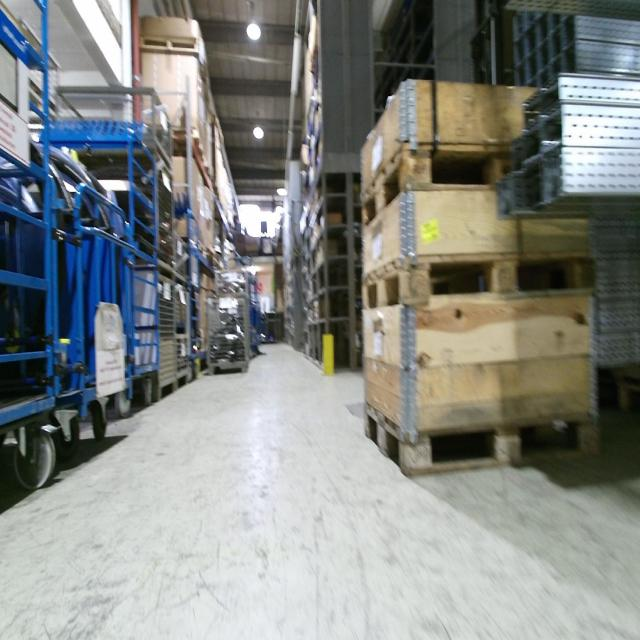pallet: (352, 138, 557, 230), (362, 394, 599, 471), (361, 248, 598, 313), (138, 32, 204, 71), (161, 123, 201, 172), (200, 154, 219, 195)
stillage: (39, 144, 178, 276), (54, 82, 173, 168), (141, 270, 178, 402), (206, 293, 252, 375), (214, 268, 259, 305), (170, 279, 193, 342), (173, 332, 194, 390)
